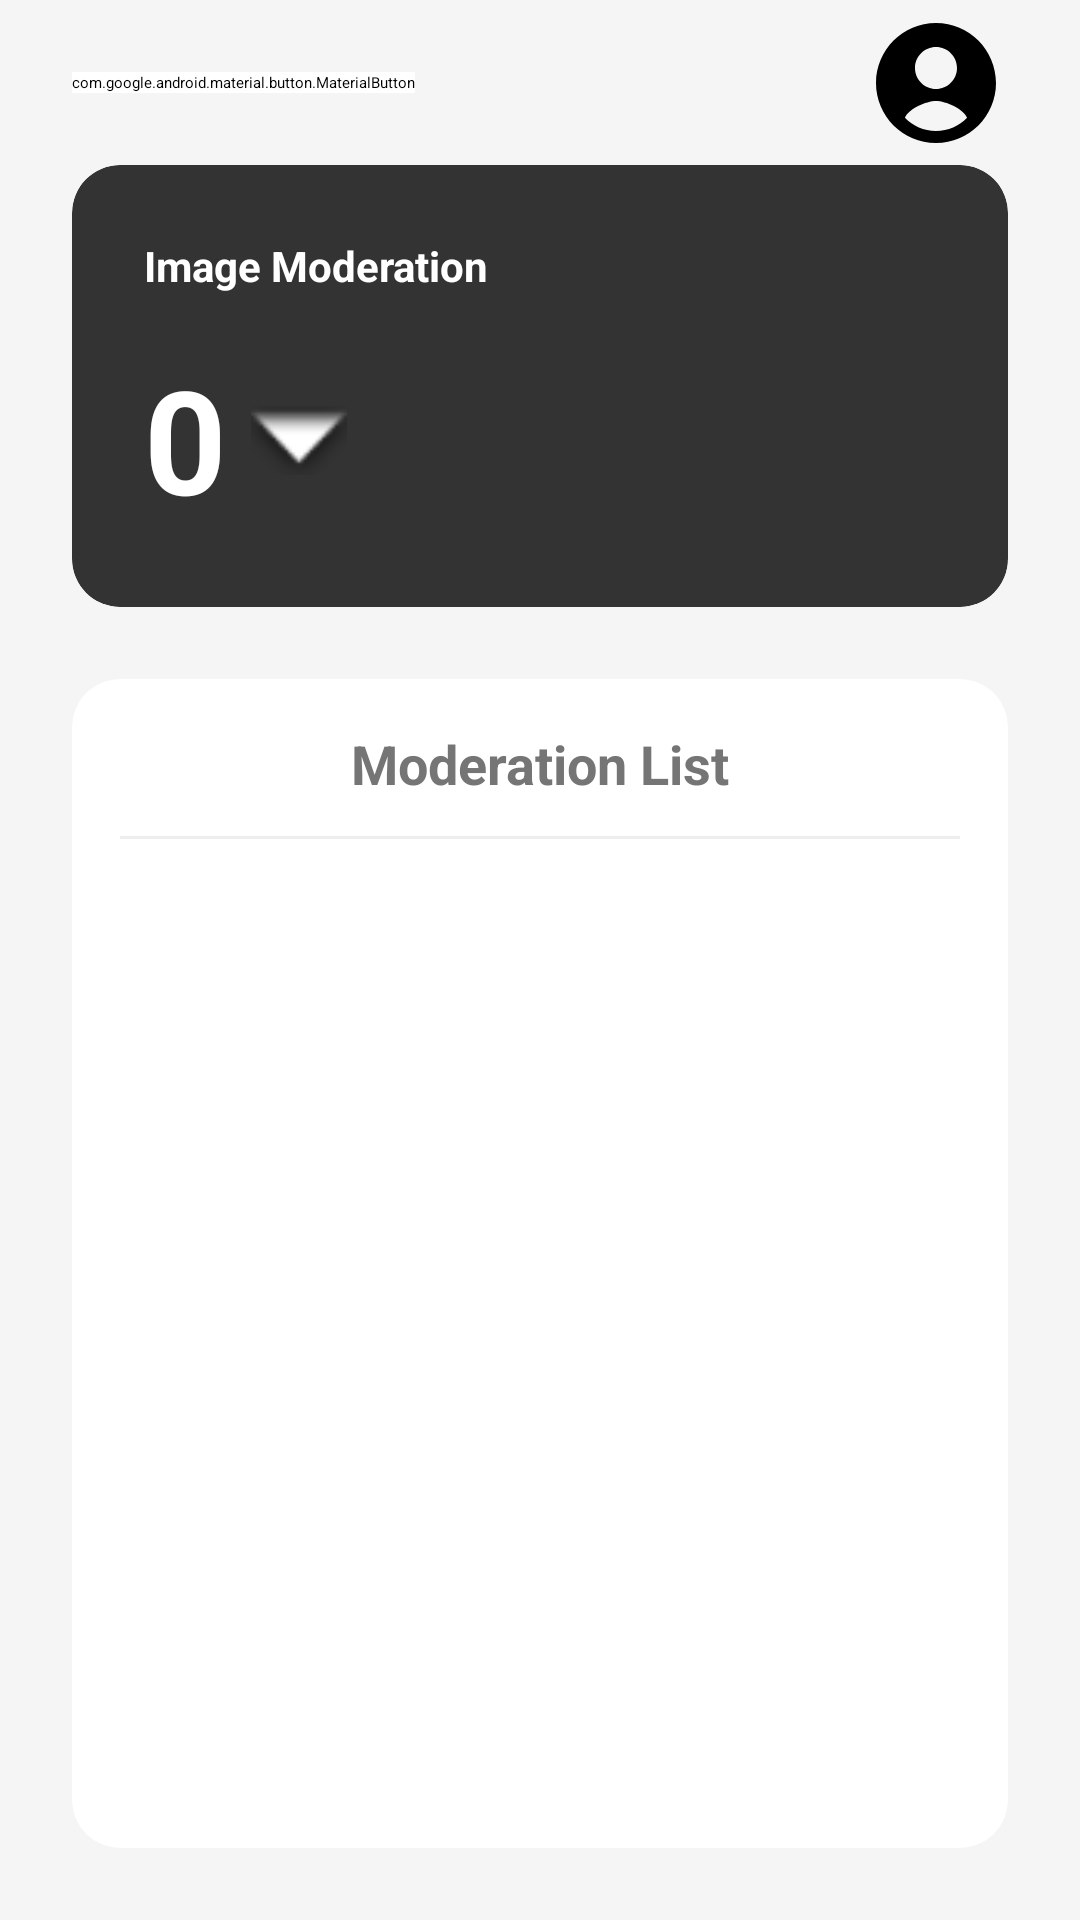

Icon click points for this 1080w x 1920h phone screenshot, format (x=x, y=y):
arrow down float: (x=299, y=438)
profile: (x=936, y=83)
